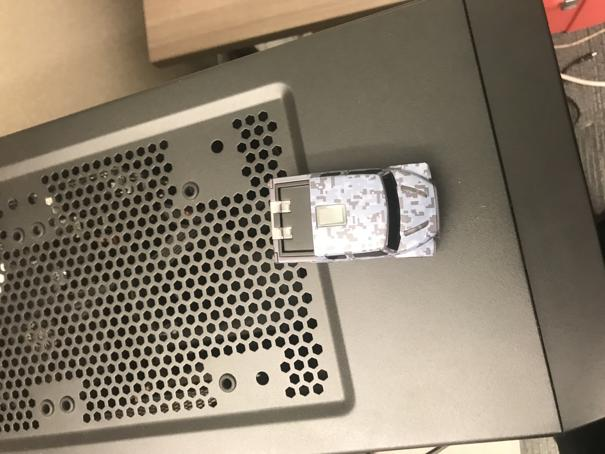MXT: (266, 161, 442, 262)
